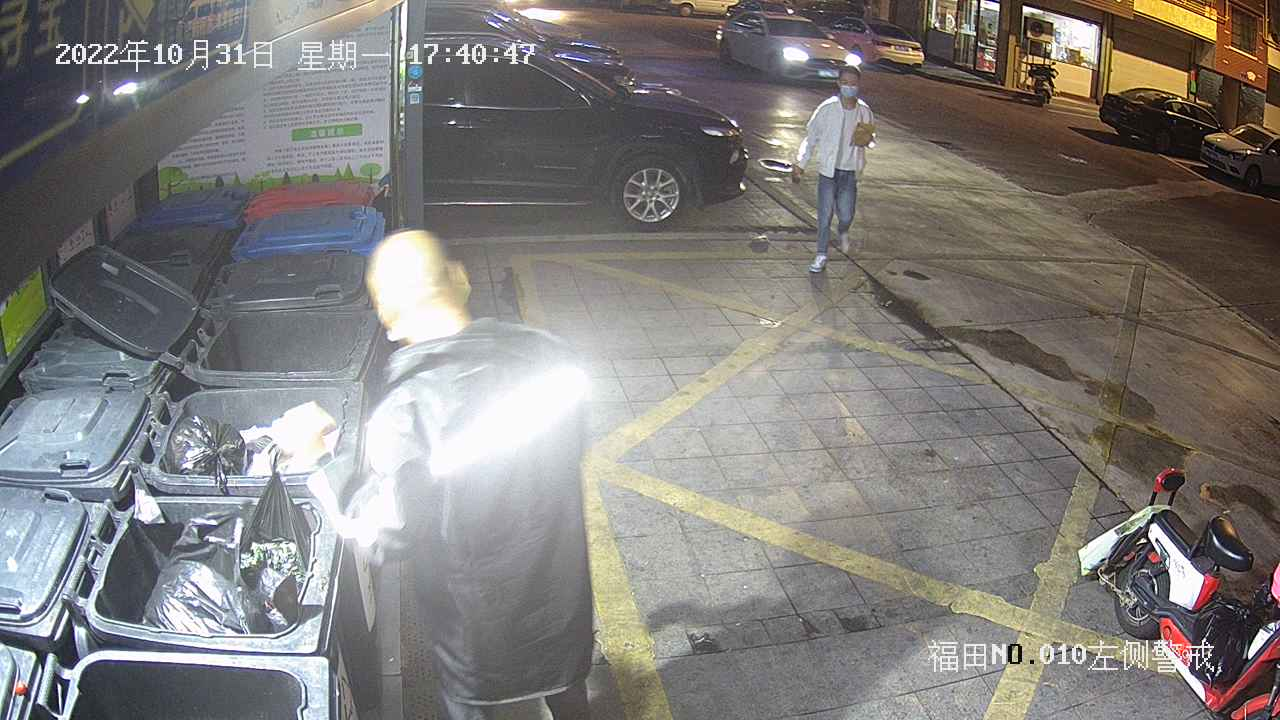person: (270, 228, 597, 720), (790, 63, 876, 276)
zhizhipin: (849, 121, 875, 148)
